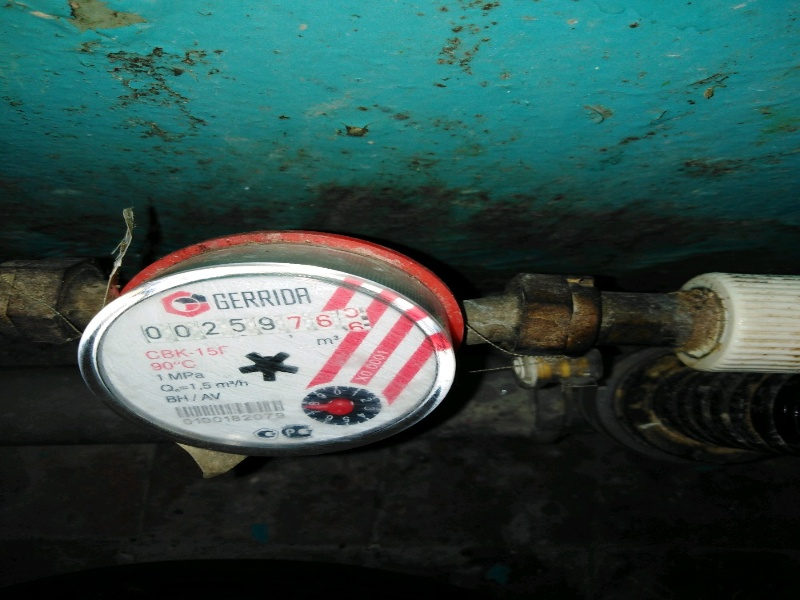meter: (122, 315, 377, 338)
